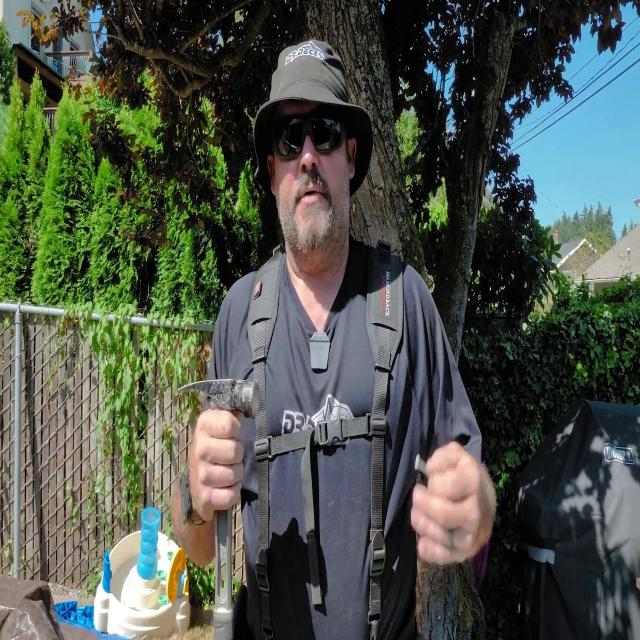hammer: (177, 381, 259, 640)
